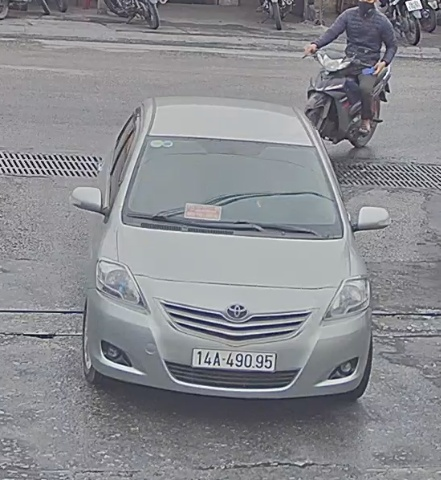vehicle plate: (184, 345, 282, 378)
